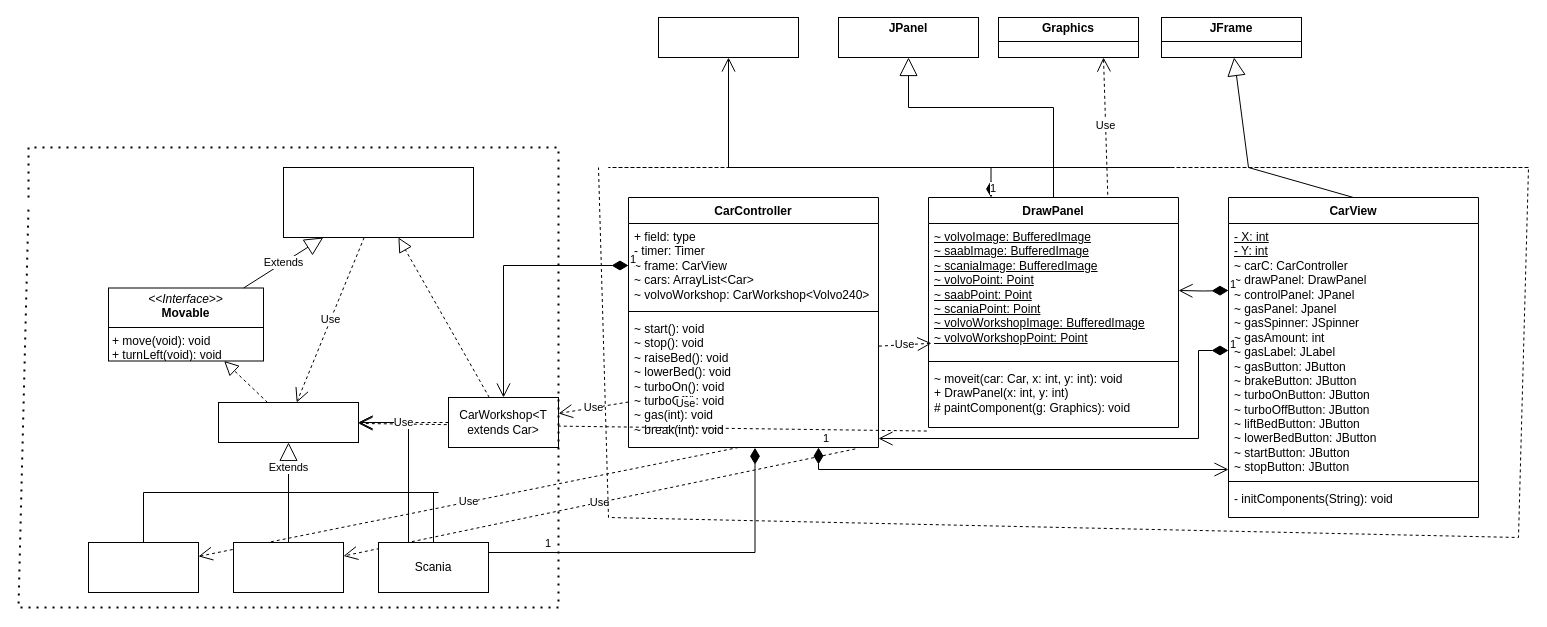
Some shapes in this 1547 by 627 pixel diagram are drawn without their labels. The shapes that lost their labels are listed below. From the top down, each one's centre as x and y in pixels, then its label:
(728,37): Point
(378,202): <<Interface>> Positionable + getPosition(void): Point2D
(288,422): Car
(143,567): Saab95
(288,567): Volvo240
